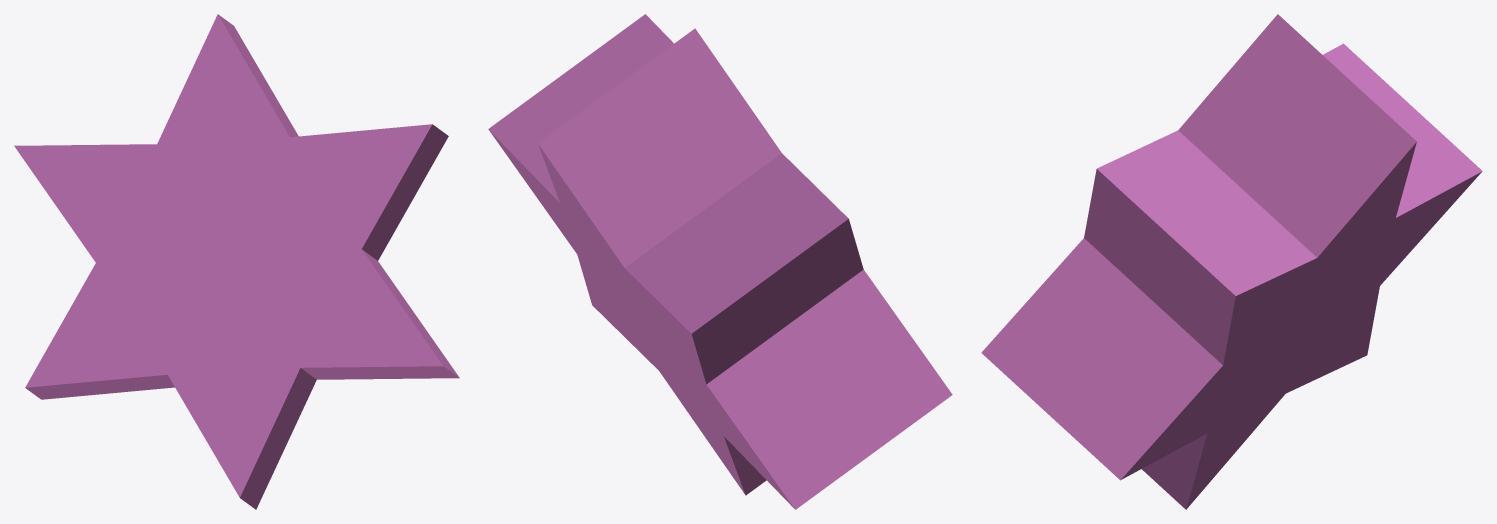
The model's file is Star.glb.
3 renders of one model, left to right at view 1: azimuth 30°, elevation 25°; view 2: azimuth 150°, elevation 25°; view 3: azimuth 270°, elevation 25°, orthographic. The views are drawn at different scales.
Visible parts, largest first — view 1: Star; view 2: Star; view 3: Star.
Part boxes in pixels (box(x1,y1,x2,y2)): Star: box(14, 14, 459, 509); Star: box(488, 14, 952, 509); Star: box(981, 14, 1482, 509).
Bounding box in the file's own units: 1.85 × 1.91 × 1.75.
